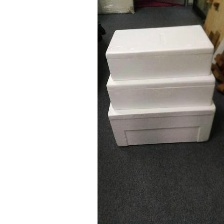foam_box: (100, 20, 217, 84), (104, 93, 219, 150), (102, 67, 220, 113)
